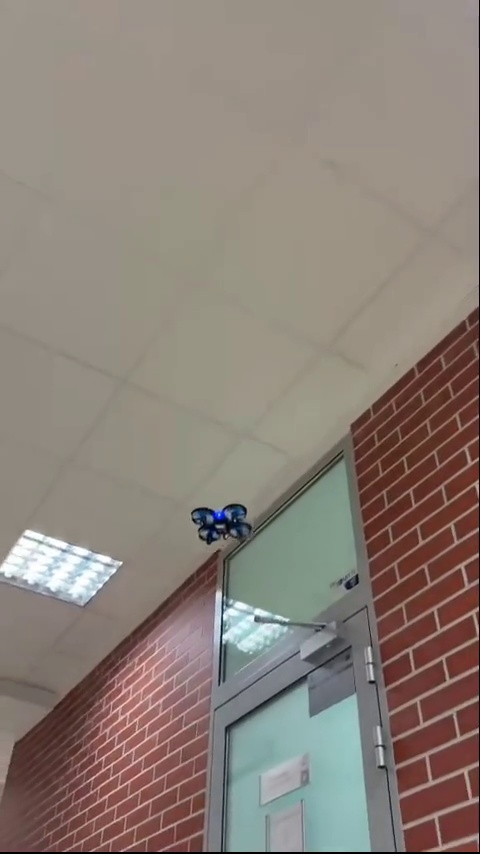drone: (192, 508, 249, 545)
